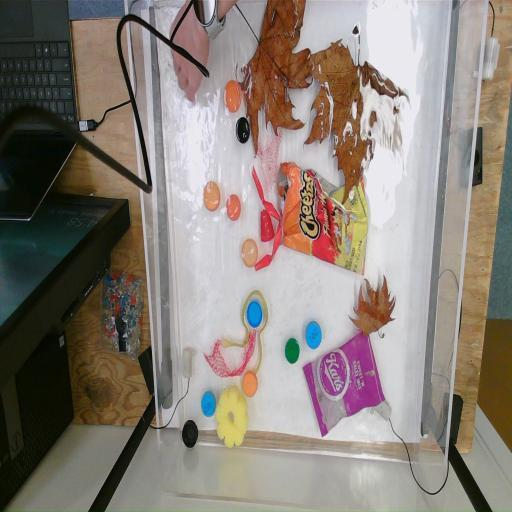Bottle Cap: (224, 80, 242, 114), (204, 181, 221, 213), (241, 238, 258, 268), (305, 322, 322, 350), (246, 300, 262, 328), (242, 370, 258, 398), (182, 420, 198, 448), (226, 194, 241, 222), (201, 391, 216, 418), (236, 116, 250, 144), (285, 338, 300, 364)
Cone Cap: (259, 207, 275, 245)
Leaf: (304, 19, 411, 196), (231, 0, 316, 153), (348, 276, 399, 342)
Netting: (201, 328, 258, 386), (254, 132, 285, 185)
Plastic Bag: (276, 157, 370, 283), (302, 329, 387, 436)
Plastic Strand: (220, 288, 270, 372), (252, 163, 286, 272)
Sponge: (214, 387, 250, 454)
